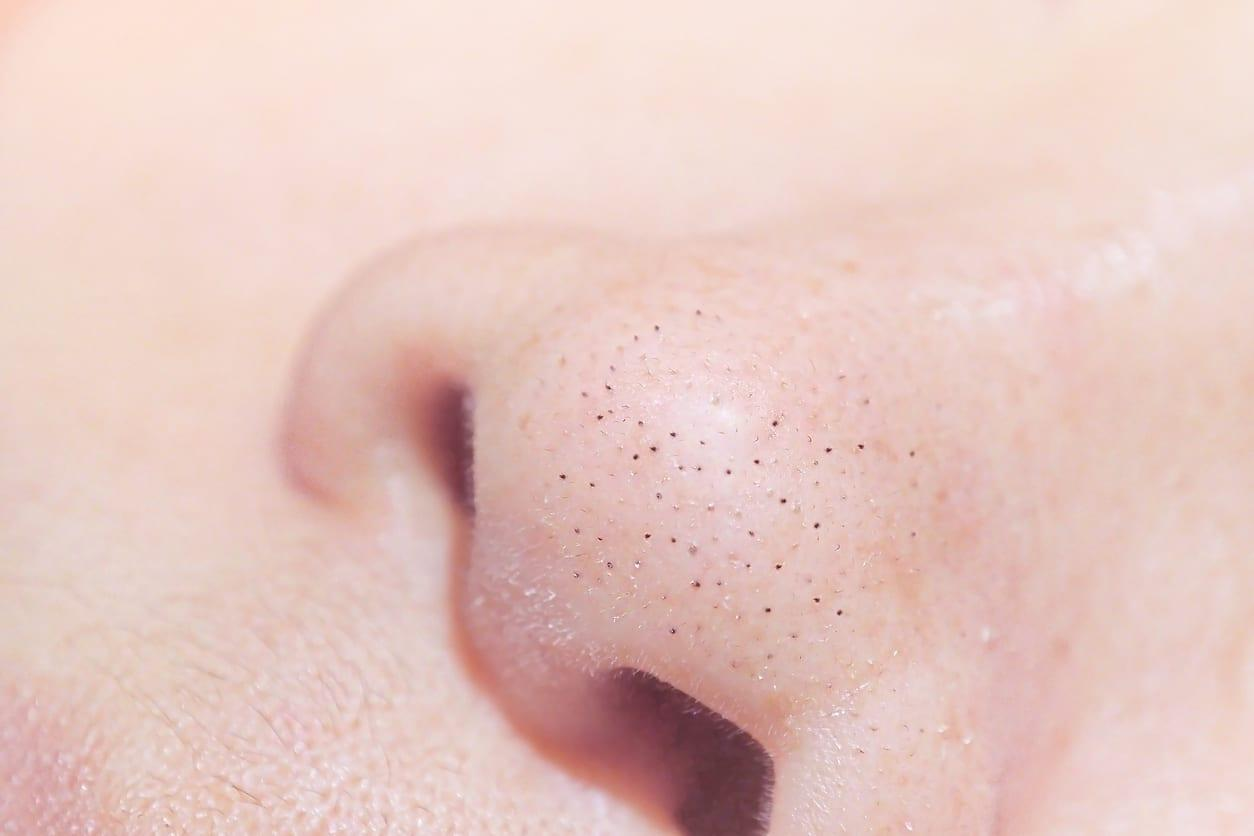Acne: (460, 220, 1084, 836)
